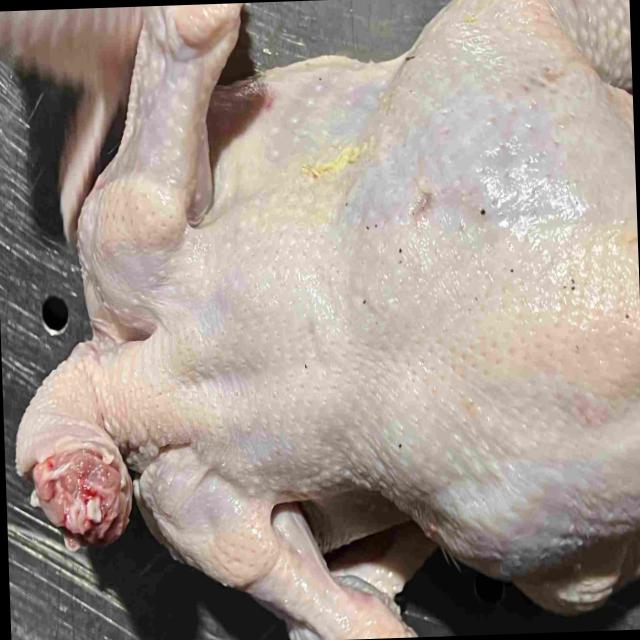breast: (189, 205, 640, 503)
leg: (355, 0, 636, 220), (438, 401, 640, 617)
neck: (11, 339, 177, 539)
wing: (73, 2, 244, 336), (137, 457, 434, 640), (0, 6, 139, 229)
